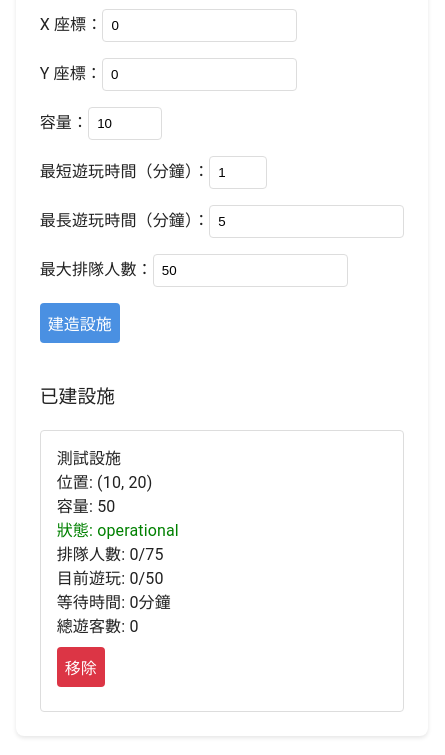
FacilityBuilderPanel › 應該能夠選擇和編輯設施
(page scrolled)
Click the element with test id "facility-info" at (118, 542), box [57, 449, 179, 636]
(page scrolled)
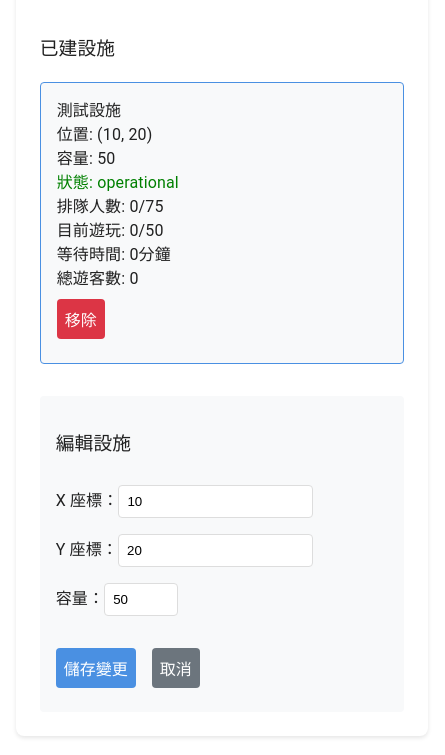
Expected: the heading "編輯設施" is shown, [56, 433, 131, 455]
Expected: the button "儲存變更" is shown, [56, 648, 136, 688]
Expected: the button "取消" is shown, [152, 648, 200, 688]
